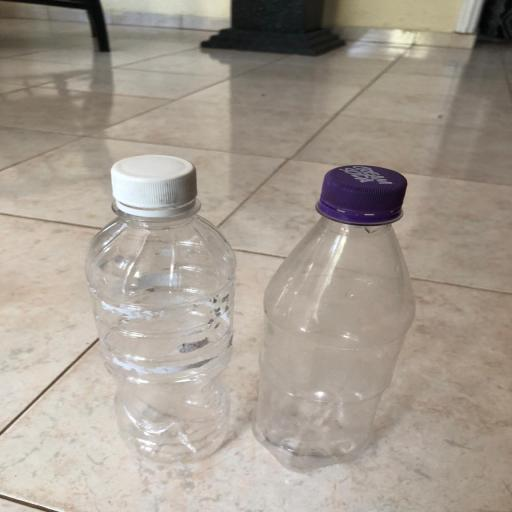waste: (250, 155, 428, 479), (76, 148, 245, 472)
